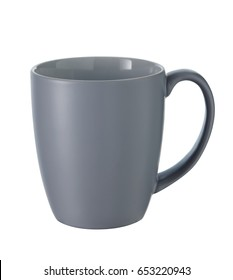cup: (30, 54, 215, 231)
